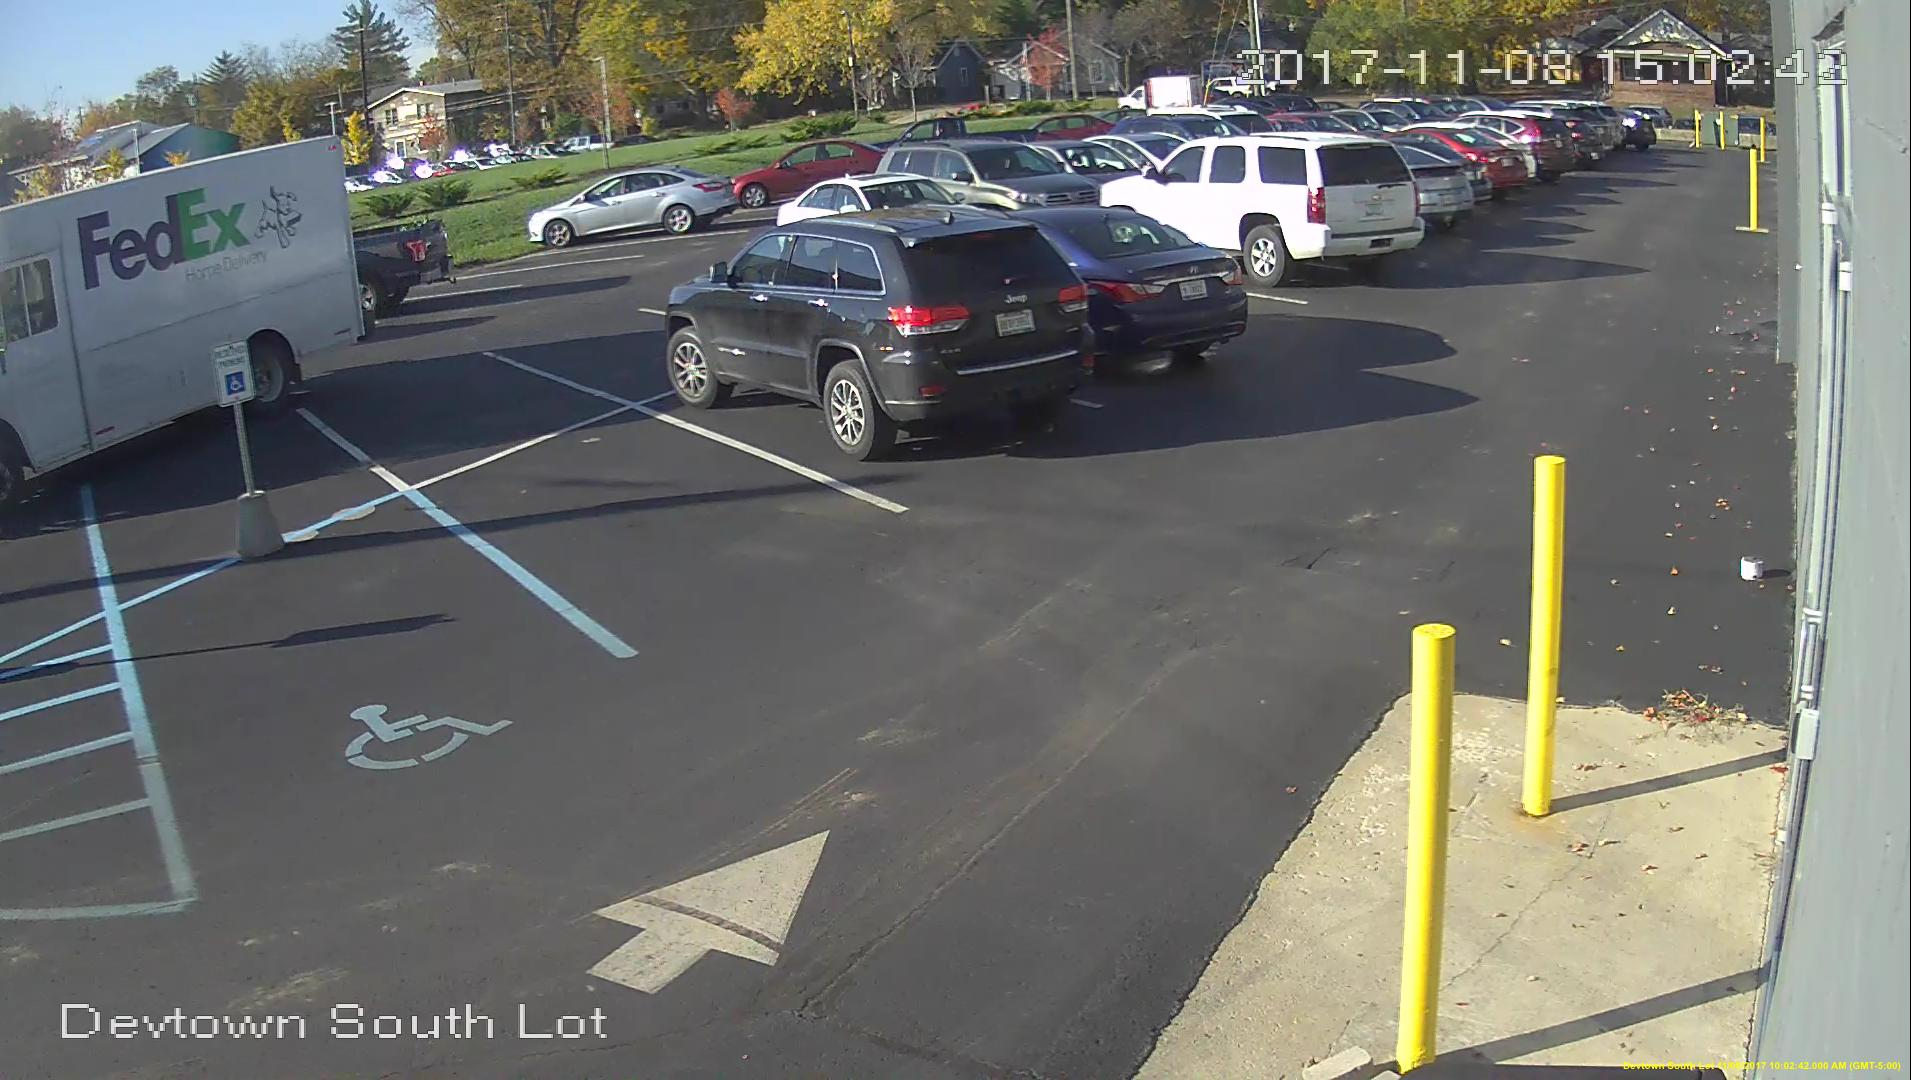fedex_truck: (1, 133, 375, 484)
